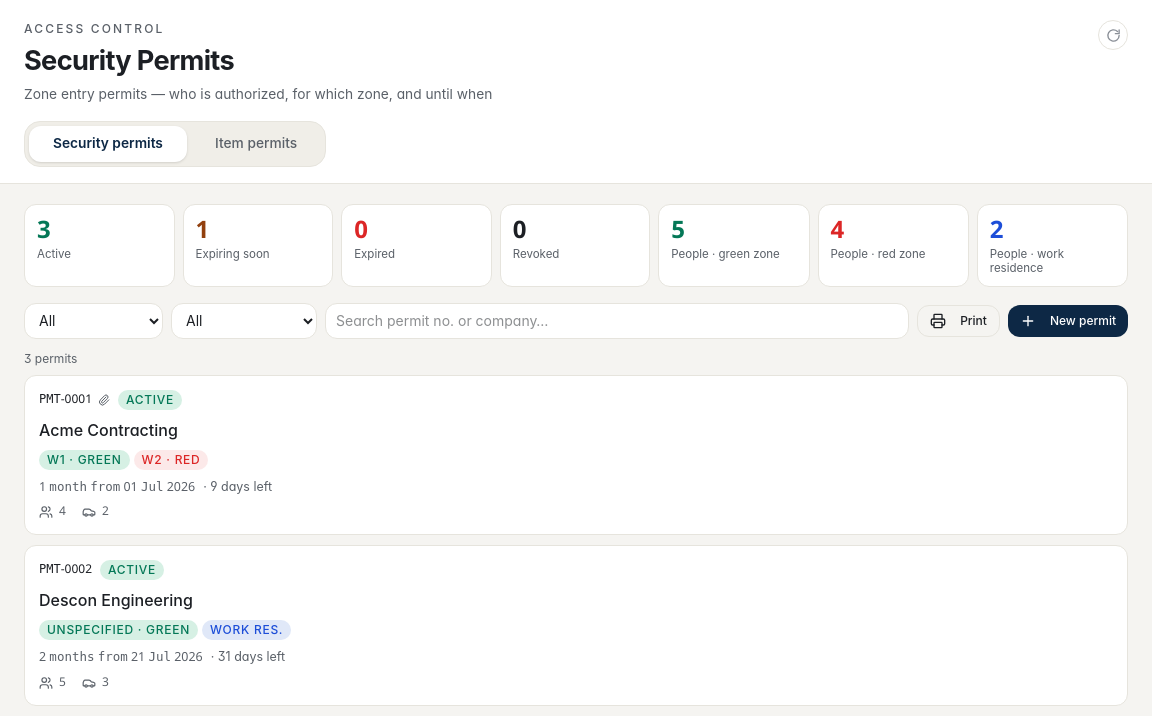
Scenario: PermitsPage › renders tappable cards instead of the table on mobile
Expected: the text "Acme Contracting" is shown once, [39, 420, 178, 440]
Click the button "PMT-0001" at (576, 455), box [24, 374, 1128, 535]
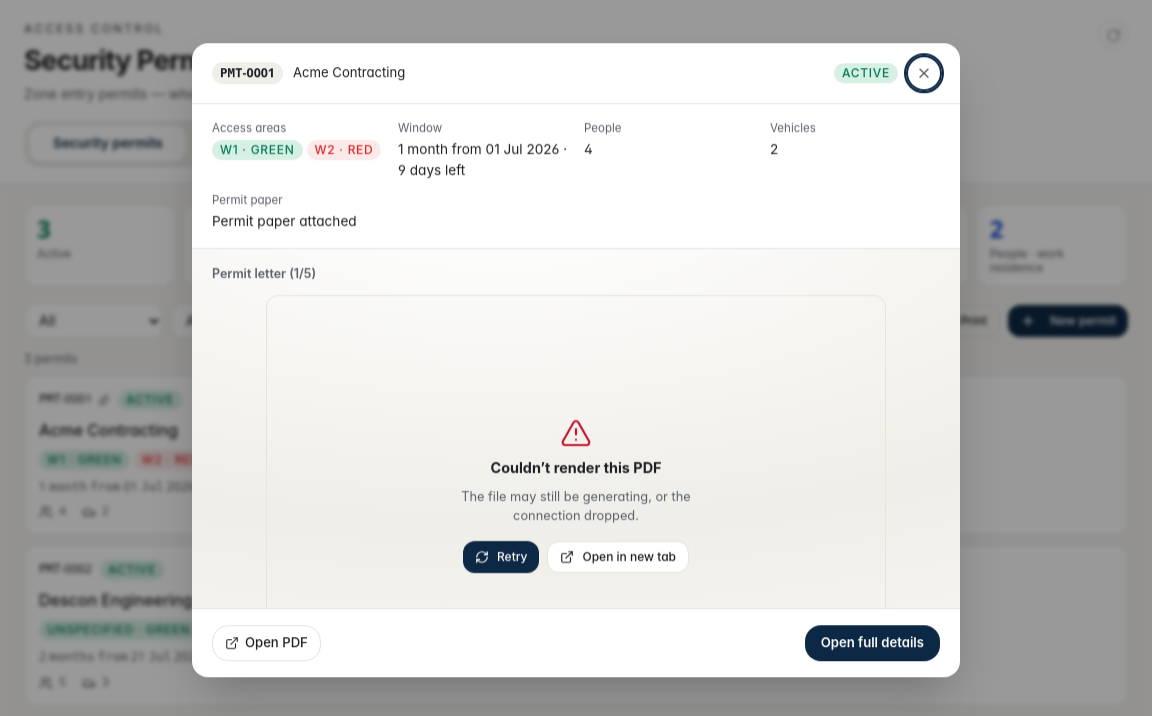
Expected: the dialog "PMT-0001" is shown, [192, 43, 960, 677]
